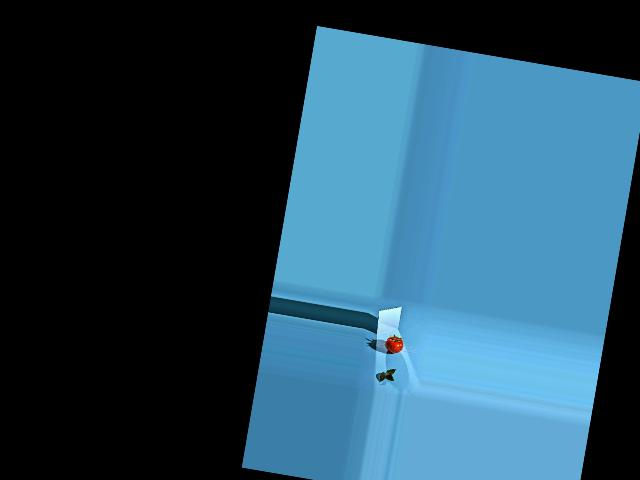tomato: (383, 334, 404, 354)
